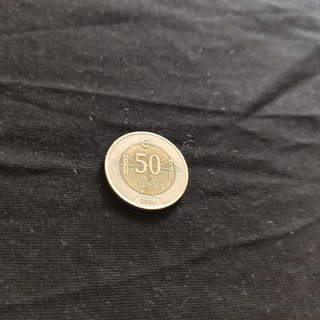50KURUS: (102, 129, 189, 212)
